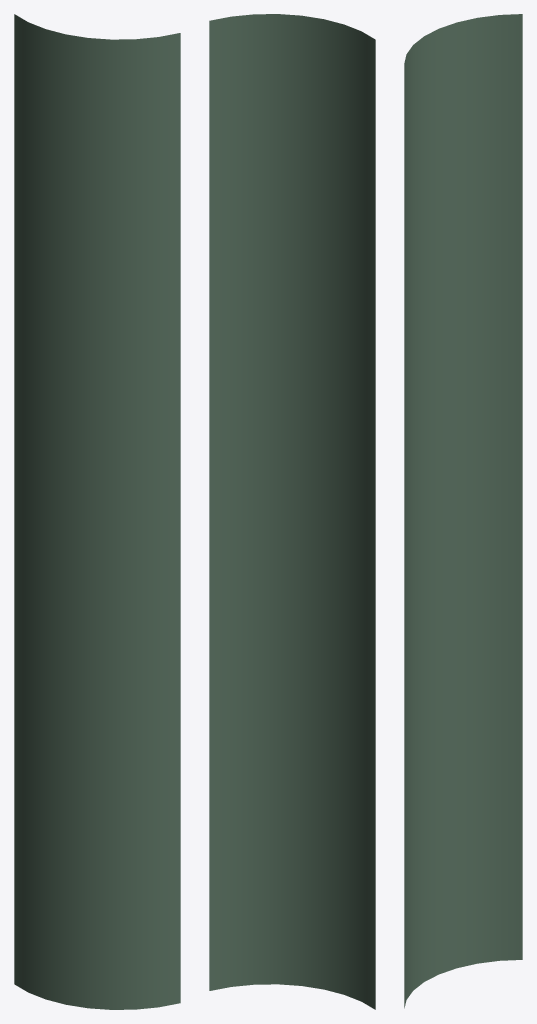
Rendered from W2_WallCornerS_Round1A.fbx.
3 views of the same model, side by side, from view 1: azimuth 30°, elevation 25°; view 2: azimuth 210°, elevation 25°; view 3: azimuth 270°, elevation 25° (orthographic). The views are drawn at different scales.
Parts seen in each view (by area): view 1: W2_WallCornerS_Round1A.001; view 2: W2_WallCornerS_Round1A.001; view 3: W2_WallCornerS_Round1A.001.
Part boxes in pixels (x1=…): W2_WallCornerS_Round1A.001: x1=14, y1=14, x2=180, y2=1009; W2_WallCornerS_Round1A.001: x1=209, y1=14, x2=375, y2=1009; W2_WallCornerS_Round1A.001: x1=404, y1=14, x2=522, y2=1008.
Bounding box in the file's own units: 0.25 × 2.2 × 0.25.
